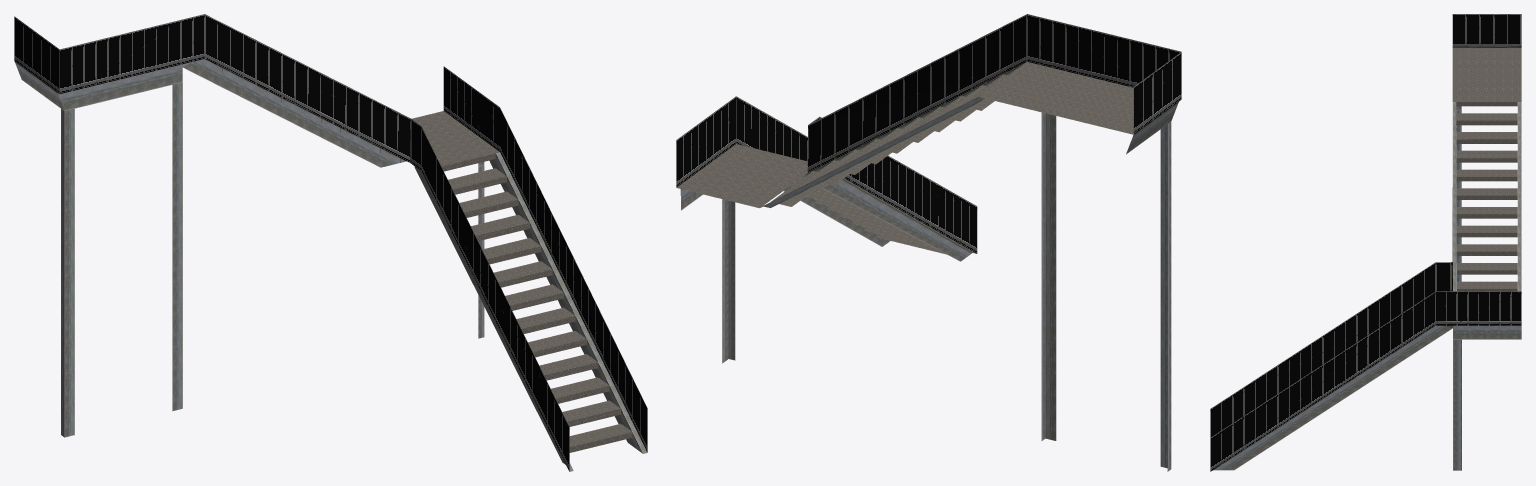
The model's file is vgssstairs03_lvs.obj.
3 renders of one model, left to right at view 1: azimuth 30°, elevation 25°; view 2: azimuth 150°, elevation 25°; view 3: azimuth 270°, elevation 25°, orthographic. The views are drawn at different scales.
Visible parts, largest first — view 1: vgsSstairs03_lvs; view 2: vgsSstairs03_lvs; view 3: vgsSstairs03_lvs.
Boxes of the visible parts, box(x1,y1,x2,y2) form: vgsSstairs03_lvs: box(14, 14, 647, 471); vgsSstairs03_lvs: box(676, 14, 1181, 471); vgsSstairs03_lvs: box(1210, 14, 1521, 471).
Size of the model in its own units: 10.02 by 8.74 by 8.26.
3 materials, 3 textured.
